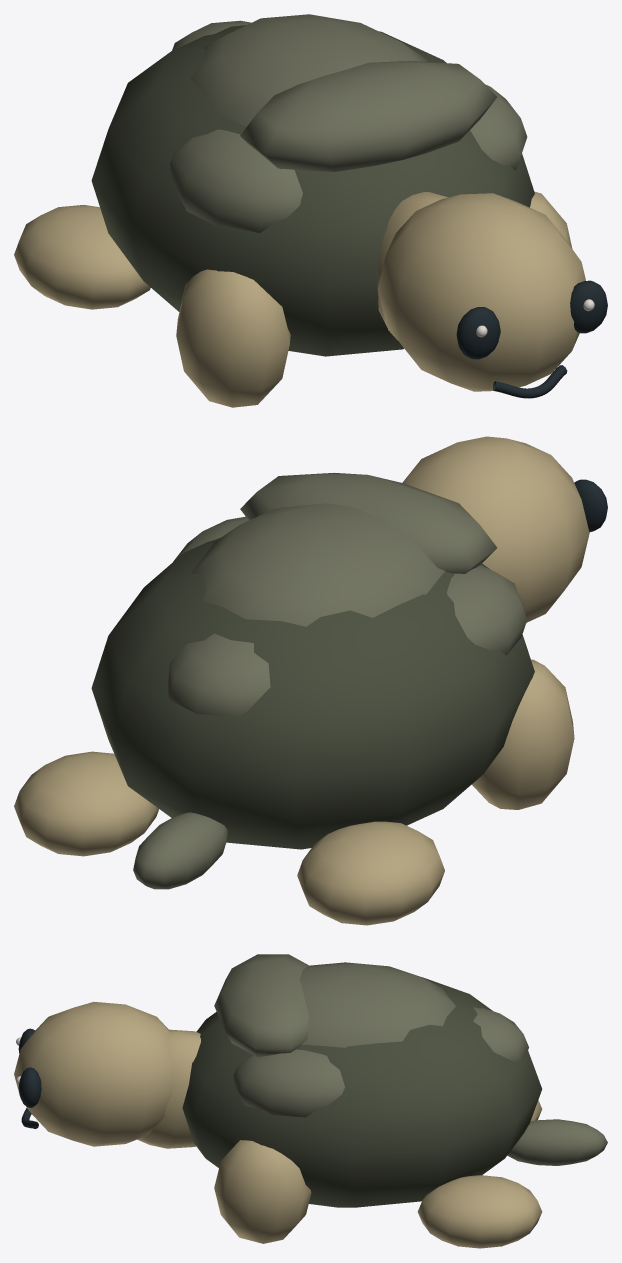
Rendered from org_pintatortoise.glb.
3 renders of one model, top to bottom at view 1: azimuth 30°, elevation 25°; view 2: azimuth 150°, elevation 25°; view 3: azimuth 270°, elevation 25°, orthographic. The views are drawn at different scales.
Visible parts, largest first — view 1: Body, Head, Leg_FR, Leg_BR, Eye_R, Eye_L, Leg_FL; view 2: Body, Head, Leg_BR, Leg_BL, Leg_FR, Tail, Eye_R; view 3: Body, Head, Leg_FL, Leg_BL, Tail, Eye_L.
Boxes of the visible parts, x1,y1,x2,y2 form: Body: (91, 14, 534, 356); Head: (377, 192, 585, 398); Leg_FR: (176, 269, 290, 407); Leg_BR: (14, 205, 150, 309); Eye_R: (456, 307, 500, 359); Eye_L: (570, 280, 607, 333); Leg_FL: (530, 191, 572, 248); Body: (91, 472, 534, 849); Head: (402, 436, 589, 622); Leg_BR: (297, 821, 444, 925); Leg_BL: (14, 751, 158, 856); Leg_FR: (472, 659, 574, 809); Tail: (133, 812, 228, 889); Eye_R: (574, 479, 607, 532); Body: (182, 954, 542, 1207); Head: (14, 1002, 200, 1148); Leg_FL: (214, 1140, 311, 1243); Leg_BL: (417, 1175, 542, 1248); Tail: (507, 1119, 607, 1165); Eye_L: (16, 1067, 41, 1107).
Size of the model in its own units: 0.4685 by 0.3182 by 0.8.
